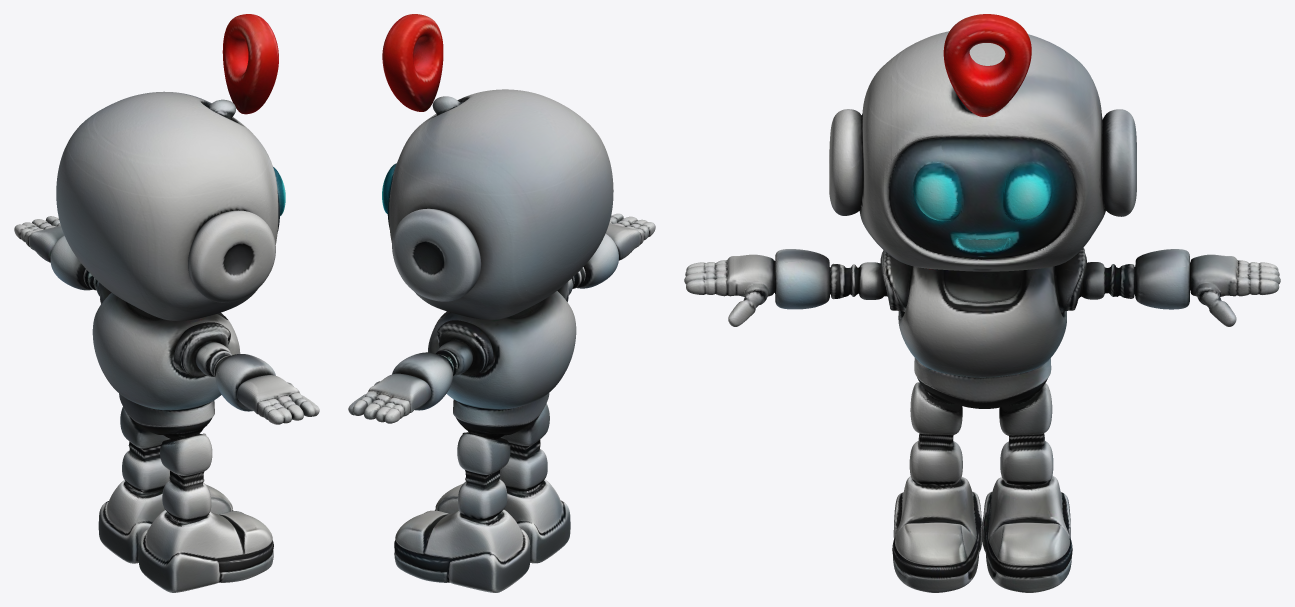
Rendered from tara-3d.glb.
3 renders of one model, left to right at view 1: azimuth 30°, elevation 25°; view 2: azimuth 150°, elevation 25°; view 3: azimuth 270°, elevation 25°, orthographic. The views are drawn at different scales.
Parts seen in each view (by area): view 1: tripo_node_f11b1919-a448-4e27-a345-635173de7a68; view 2: tripo_node_f11b1919-a448-4e27-a345-635173de7a68; view 3: tripo_node_f11b1919-a448-4e27-a345-635173de7a68.
Boxes of the visible parts, <box> form: tripo_node_f11b1919-a448-4e27-a345-635173de7a68: <box>14,14,319,592</box>; tripo_node_f11b1919-a448-4e27-a345-635173de7a68: <box>348,14,655,592</box>; tripo_node_f11b1919-a448-4e27-a345-635173de7a68: <box>684,14,1280,592</box>.
Bounding box in the file's own units: 0.38 × 1 × 0.9269.
Materials: 1 (1 with a texture image).
